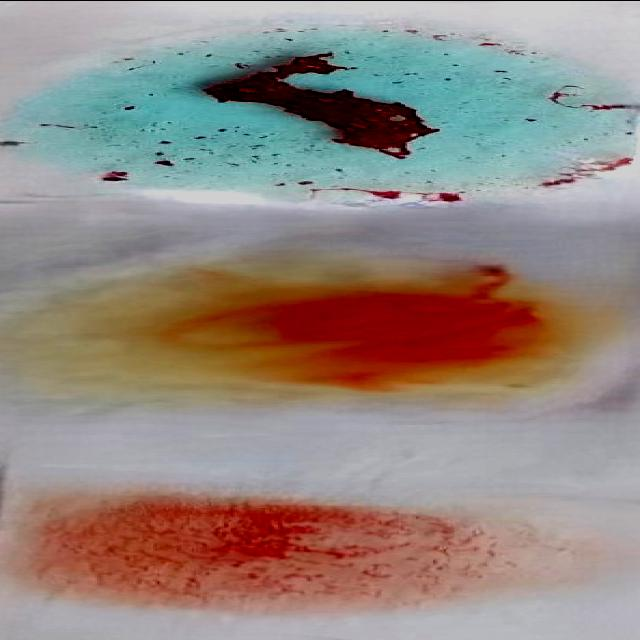A: (20, 22, 628, 205)
D: (40, 489, 546, 610)
